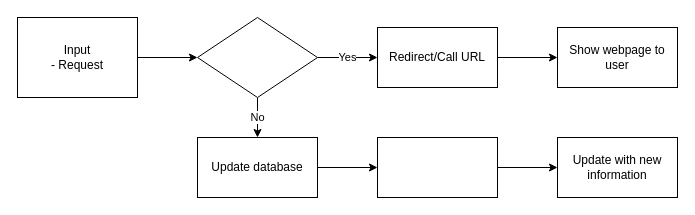
The diagram is 695 pixels wide and 215 high, and some of its shapes have lost their labels. The shapes that lost their labels are listed below. From the top down, each one's centre as x and y in pixels, then its label:
At [257,57]: "If user request".
At [437,167]: "Test website".
